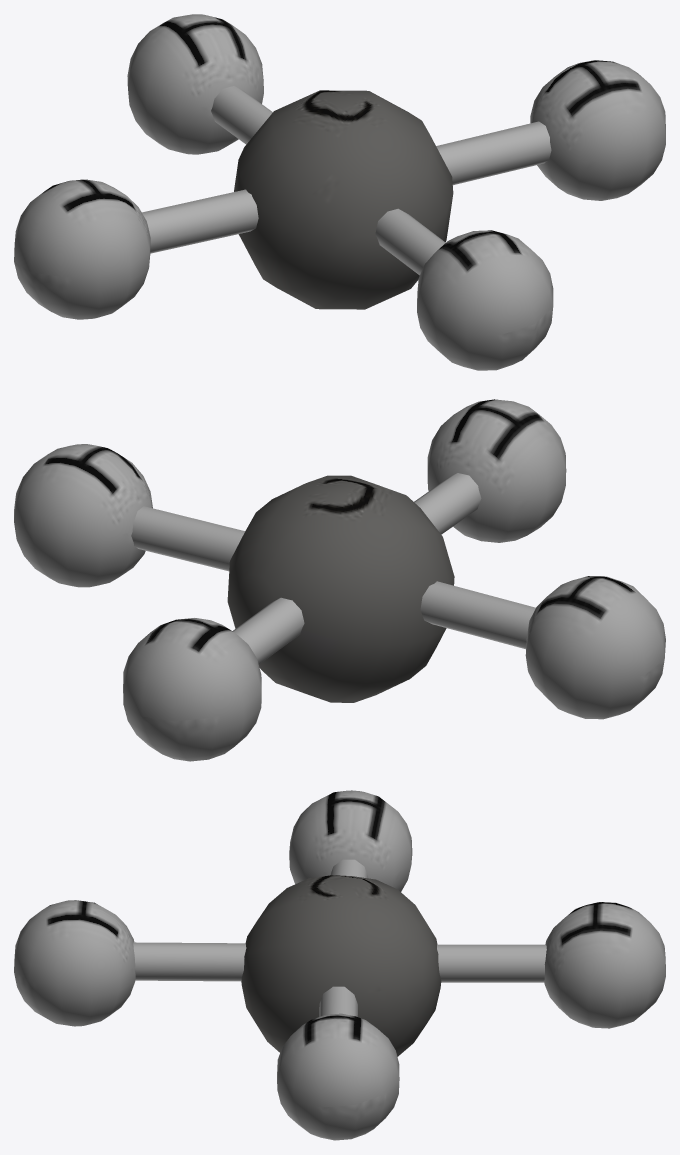
Rendered from Methene.fbx.
3 views of the same model, one above another, from view 1: azimuth 30°, elevation 25°; view 2: azimuth 150°, elevation 25°; view 3: azimuth 270°, elevation 25° (orthographic). The views are drawn at different scales.
Visible parts, largest first — view 1: pSphere216, pSphere220, pSphere218, pSphere219, pSphere217, pCylinder26, pCylinder25, pCylinder27, pCylinder24; view 2: pSphere216, pSphere217, pSphere220, pSphere219, pSphere218, pCylinder26, pCylinder25, pCylinder24, pCylinder27; view 3: pSphere216, pSphere219, pSphere218, pSphere217, pSphere220, pCylinder27, pCylinder24, pCylinder25, pCylinder26.
Part boxes in pixels (x1,y1,x2,y2): pSphere216: (234, 90, 453, 309); pSphere220: (14, 179, 150, 319); pSphere218: (417, 230, 553, 370); pSphere219: (530, 60, 665, 200); pSphere217: (127, 14, 263, 154); pCylinder26: (142, 189, 258, 253); pCylinder25: (436, 121, 551, 185); pCylinder27: (375, 208, 445, 275); pCylinder24: (211, 86, 272, 144); pSphere216: (227, 475, 454, 702); pSphere217: (123, 618, 261, 761); pSphere220: (525, 576, 665, 719); pSphere219: (14, 444, 152, 587); pSphere218: (427, 399, 566, 542); pCylinder26: (420, 581, 535, 649); pCylinder25: (131, 506, 244, 571); pCylinder24: (232, 597, 304, 664); pCylinder27: (414, 473, 481, 534); pSphere216: (241, 875, 441, 1056); pSphere219: (277, 1013, 399, 1140); pSphere218: (14, 900, 135, 1026); pSphere217: (544, 902, 665, 1028); pSphere220: (289, 790, 412, 891); pCylinder27: (133, 942, 246, 981); pCylinder24: (437, 944, 546, 982); pCylinder25: (319, 986, 357, 1016); pCylinder26: (330, 859, 367, 878).
Size of the model in its own units: 0.2967 by 0.0903 by 0.2967.
2 materials, 1 textured.
